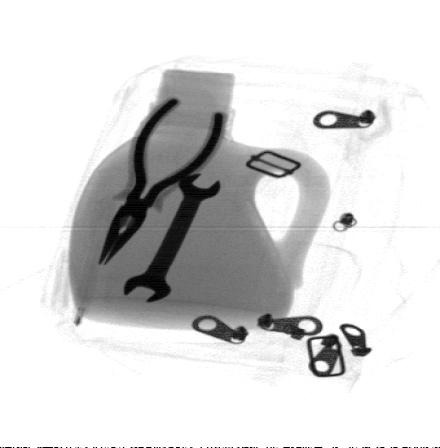Pliers: (98, 96, 229, 267)
Wrench: (124, 172, 222, 304)
